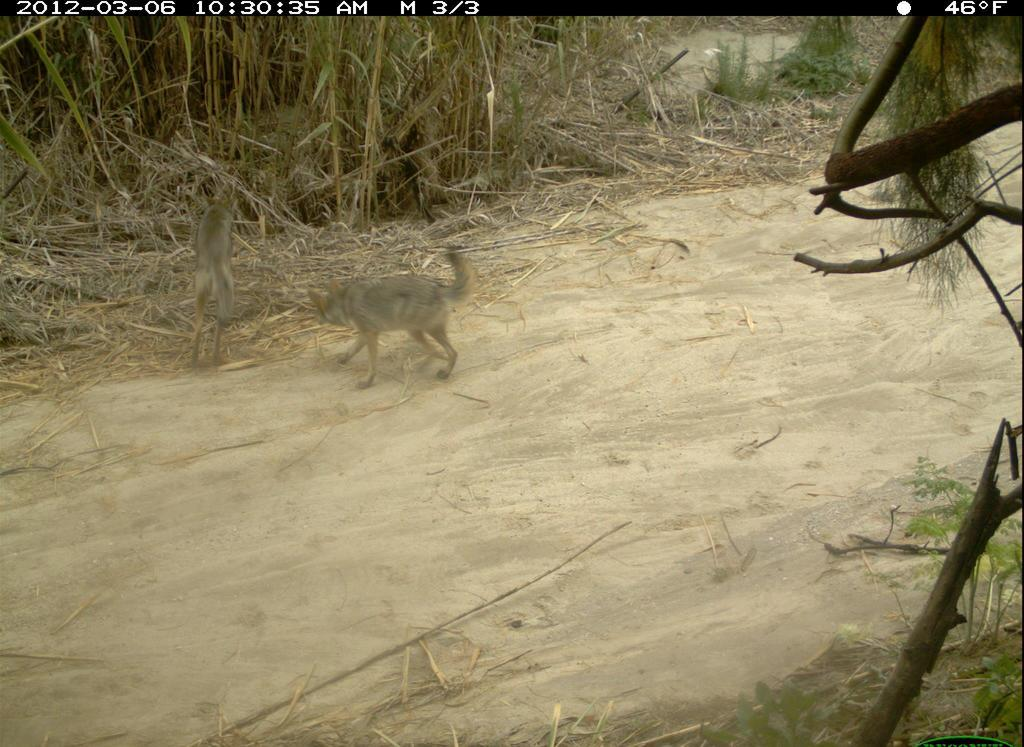coyote: (312, 246, 482, 388), (189, 193, 240, 368)
